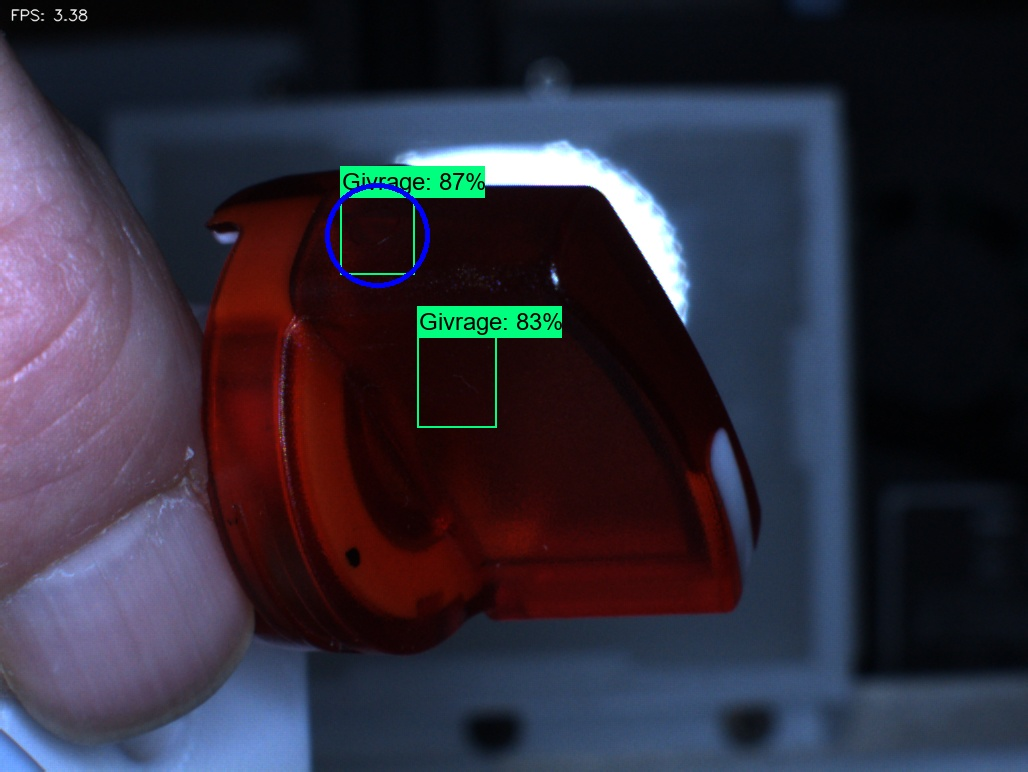PointNoir: (314, 523, 398, 602)
